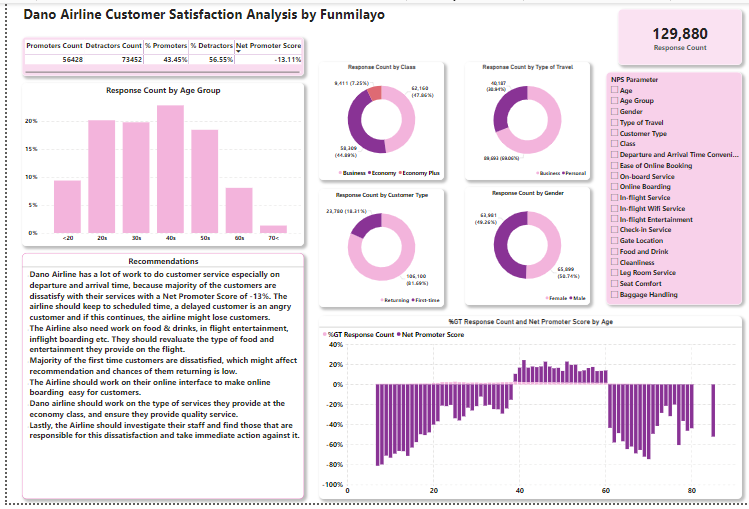

What the dashboard file says about the page in this screenshot:
{"tool":"powerbi","page":{"name":"Page 1","canvas":[3000,2000],"ordinal":0},"visuals":[{"type":"donutChart","fields":{"Y":["Airline data.Response Count"],"Category":["Airline data.Gender"]},"box":[1832,736,500,472],"z":0},{"type":"donutChart","fields":{"Y":["Airline data.Response Count"],"Category":["Airline data.Type of Travel"]},"box":[1832,236,500,472],"z":1000},{"type":"donutChart","fields":{"Y":["Airline data.Response Count"],"Category":["Airline data.Class"]},"box":[1248,236,500,472],"z":2000},{"type":"donutChart","fields":{"Y":["Airline data.Response Count"],"Category":["Airline data.Customer Type"]},"box":[1248,744,500,472],"z":3000},{"type":"tableEx","fields":{"Values":["Airline data.Promoters Count","Airline data.Detractors Count","Airline data.% Promoters","Airline data.% Detractors","Airline data.Net Promoter Score"]},"box":[60,136,1128,156],"z":4000},{"type":"columnChart","fields":{"Category":["Airline data.Age","Airline data.Age Group","Airline data.Gender","Airline data.Type of Travel","Airline data.Customer Type","Airline data.Class","Airline data.Departure and Arrival Time Convenience","Airline data.Ease of Online Booking","Airline data.On-board Service","Airline data.Online Boarding","Airline data.In-flight Service","Airline data.In-flight Wifi Service"],"Y":["Airline data.Response Count","Airline data.Net Promoter Score"]},"box":[1248,1252,1692,732],"z":5000},{"type":"card","fields":{"Values":["Airline data.Response Count"]},"box":[2444,24,496,224],"z":6000},{"type":"columnChart","title":"Response Count by Age Group","fields":{"Y":["Airline data.Response Count"],"Category":["Airline data.Age Group"]},"box":[60,320,1128,652],"z":7000},{"type":"slicer","fields":{"Values":["NPS Parameter.NPS Parameter"]},"box":[2396.2,275,544.2,930.8],"z":8000},{"type":"textbox","box":[60,0,1500,100],"z":10000},{"type":"textbox","title":"Recommendations","box":[60,1000,1128,984],"z":11000}]}

Visuals, with their boxes in screenshot pixels (x1, y1, x2, y2), scaled from the page's 3000x2000 canvas onto the 749x509 screenshot:
donutChart - Airline data.Response Count x Airline data.Gender: (457,187,582,307)
donutChart - Airline data.Response Count x Airline data.Type of Travel: (457,60,582,180)
donutChart - Airline data.Response Count x Airline data.Class: (312,60,436,180)
donutChart - Airline data.Response Count x Airline data.Customer Type: (312,189,436,309)
tableEx - Airline data.Promoters Count x Airline data.Detractors Count: (15,35,297,74)
columnChart - Airline data.Age x Airline data.Age Group: (312,319,734,505)
card - Airline data.Response Count: (610,6,734,63)
"Response Count by Age Group" columnChart: (15,81,297,247)
slicer - NPS Parameter.NPS Parameter: (598,70,734,307)
textbox: (15,0,389,25)
"Recommendations" textbox: (15,254,297,505)
